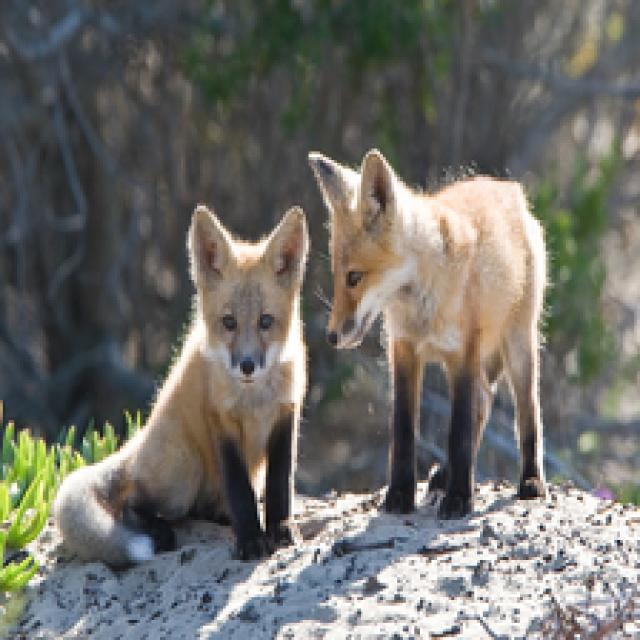fox: (303, 142, 582, 537), (54, 184, 329, 579)
